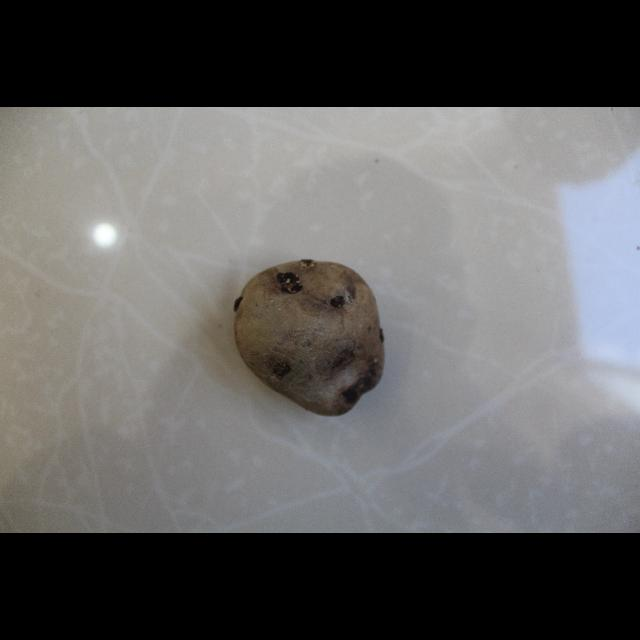Diseased-fungal potato: (230, 257, 388, 419)
